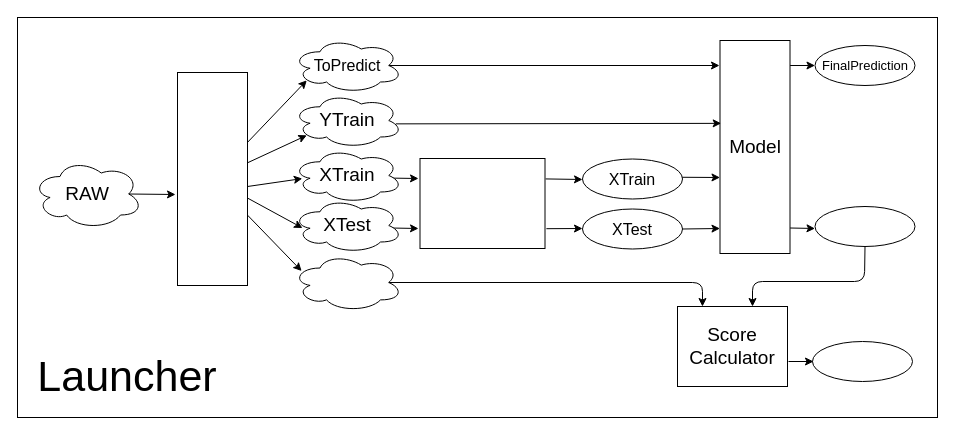
This 955x435 diagram has some shape labels left out. Here are the shapes that lost their labels. From the top down, the centre of each, then its label:
At (x=212, y=179): "Data Provider".
At (x=482, y=203): "XTransformer".
At (x=864, y=226): "TestPrediction".
At (x=347, y=282): "YTest".
At (x=862, y=361): "TestScore".
